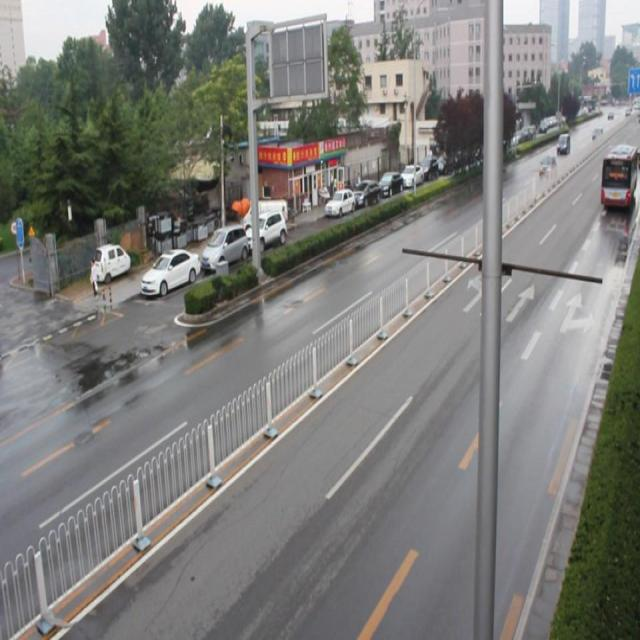van: (599, 146, 640, 208)
